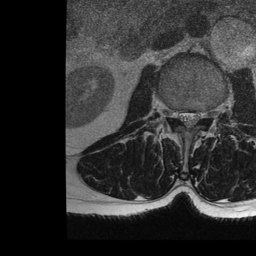CCS_normal: (185, 102, 193, 137)
LFS_normal: (200, 101, 209, 127)
LLS_normal: (192, 103, 200, 132)
RFS_normal: (169, 99, 178, 125)
RLS_normal: (177, 102, 185, 130)
